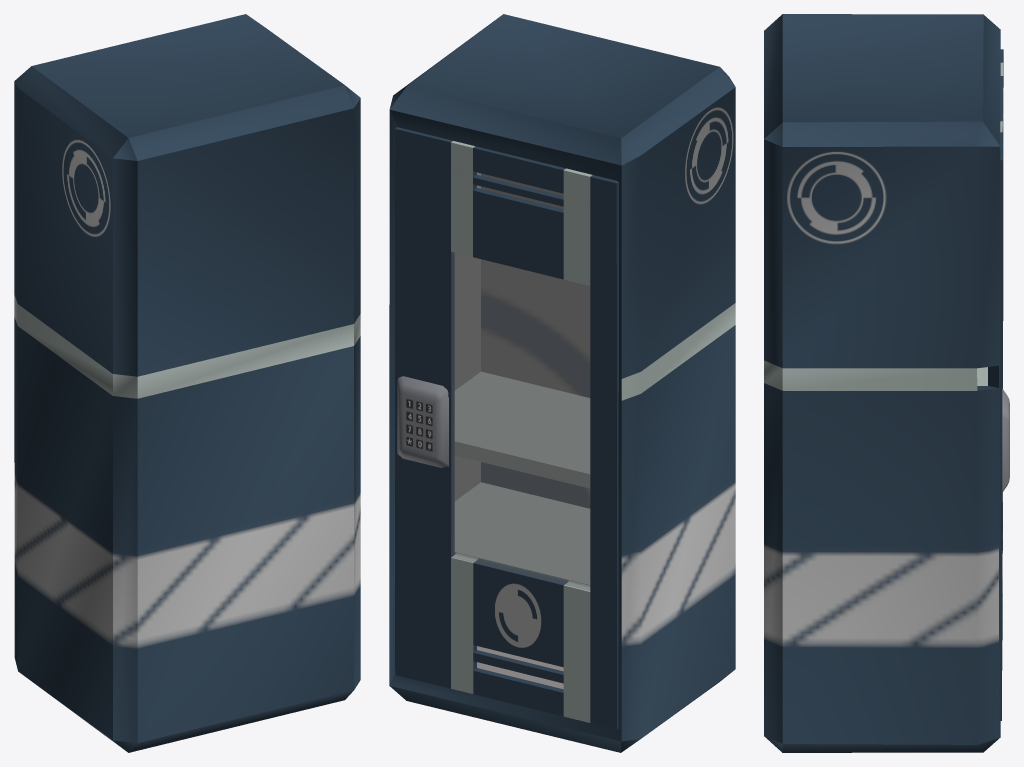
File: SM_SR_Casier_pistoG.fbx
3 views of the same model, side by side, from view 1: azimuth 30°, elevation 25°; view 2: azimuth 150°, elevation 25°; view 3: azimuth 270°, elevation 25° (orthographic). The views are drawn at different scales.
Visible parts, largest first — view 1: SM_SR_Locker; view 2: SM_SR_Locker, SM_SR_Locker_Door; view 3: SM_SR_Locker, SM_SR_Locker_Door.
Boxes of the visible parts, x1,y1,x2,y2 form: SM_SR_Locker: (14,14,360,752); SM_SR_Locker: (389,14,735,752); SM_SR_Locker_Door: (395,127,618,729); SM_SR_Locker: (764,14,1000,752); SM_SR_Locker_Door: (1000,49,1009,720).
Bounding box in the file's own units: 1.46 × 3.46 × 1.22.
